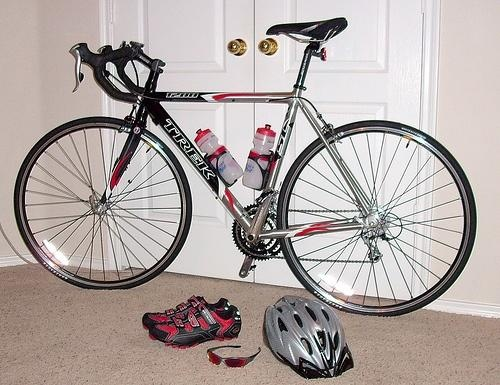bicycle: (14, 17, 479, 319)
bottle: (194, 128, 243, 188), (243, 125, 280, 191)
